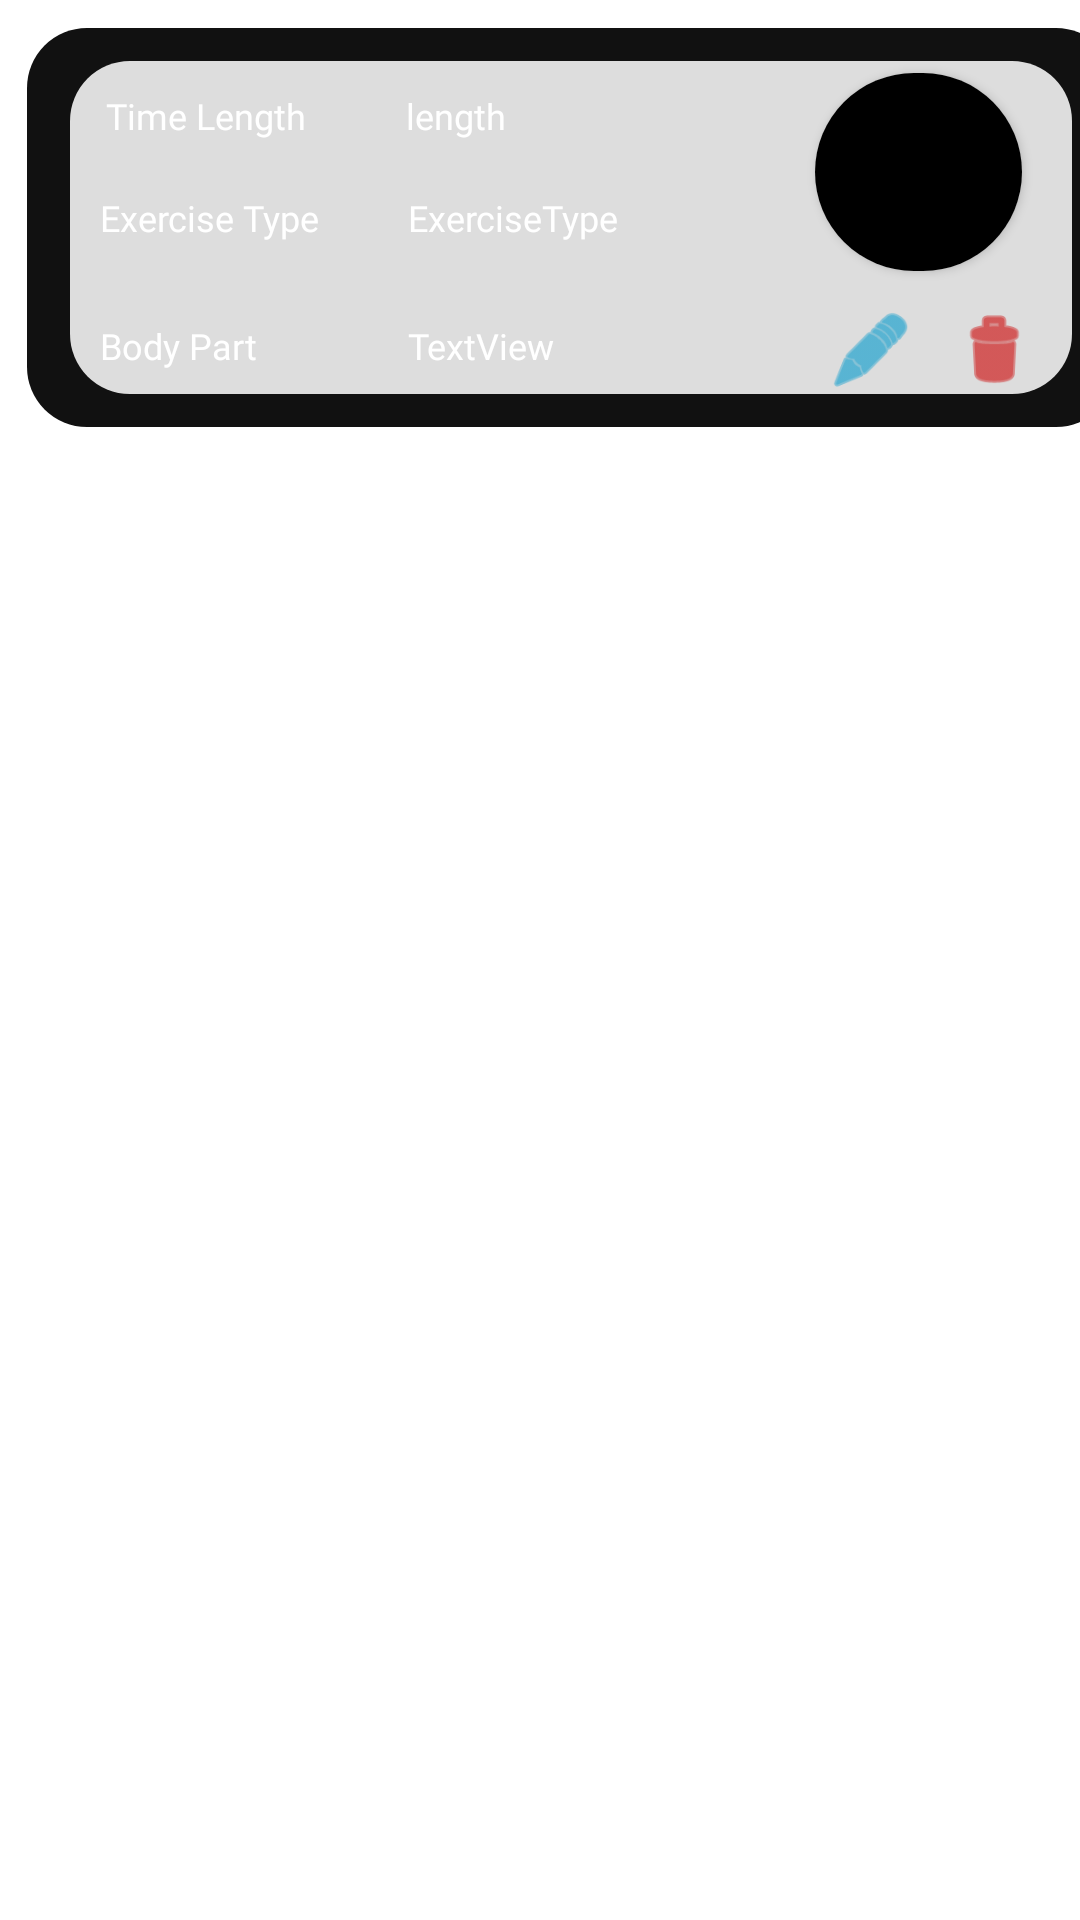

Icon click points for this 1080x1920 phone screenshot, format (x,y):
delete: (994,349)
edit: (870,350)
